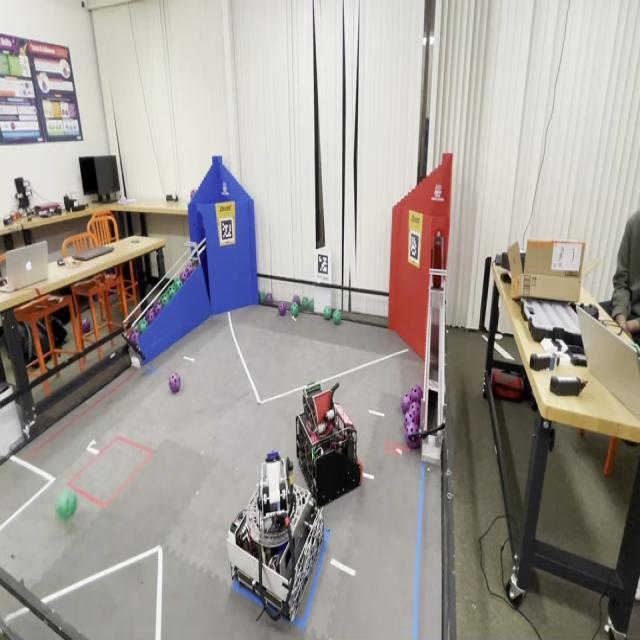artifact_green: (56, 489, 77, 521), (173, 276, 183, 293), (137, 319, 148, 334), (153, 300, 163, 316), (82, 318, 91, 334), (160, 292, 170, 306), (164, 284, 173, 299), (333, 309, 341, 325), (166, 284, 175, 298), (291, 303, 299, 317), (302, 297, 310, 311), (324, 306, 332, 319), (278, 302, 285, 316), (265, 293, 273, 304), (292, 294, 300, 304), (259, 291, 265, 304), (308, 299, 314, 311), (171, 283, 177, 295), (258, 290, 261, 301)
artifact_purple: (405, 425, 420, 449), (169, 373, 181, 393), (404, 410, 415, 428), (410, 386, 423, 401), (410, 402, 420, 420), (402, 394, 411, 413), (145, 307, 155, 324), (154, 300, 163, 317), (129, 329, 139, 344), (82, 318, 91, 334), (180, 268, 189, 283), (186, 262, 195, 276), (405, 432, 412, 447), (278, 302, 285, 316), (413, 413, 420, 426), (292, 296, 300, 306), (265, 293, 272, 304), (190, 190, 196, 200)
